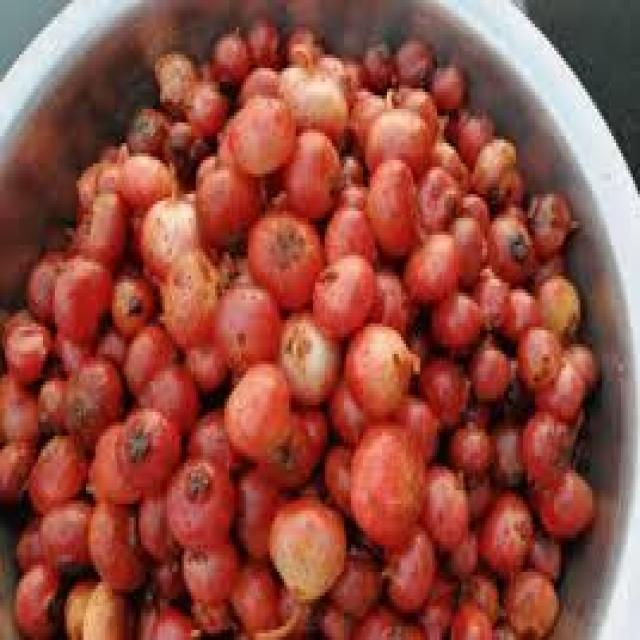organic waste: (346, 412, 425, 545), (263, 487, 344, 592), (160, 242, 234, 354), (244, 201, 318, 306), (194, 150, 268, 252), (206, 272, 280, 368), (310, 245, 380, 341), (346, 317, 413, 412), (220, 357, 286, 453), (134, 184, 198, 282), (256, 402, 327, 490), (60, 354, 122, 453), (274, 300, 336, 398), (164, 456, 232, 545), (84, 497, 148, 589), (234, 456, 291, 558), (224, 92, 292, 174), (112, 405, 177, 490), (358, 99, 435, 170), (363, 157, 418, 255), (378, 514, 432, 613), (280, 122, 342, 208), (48, 252, 110, 334), (132, 361, 198, 436), (36, 494, 91, 582), (533, 456, 592, 538), (119, 313, 177, 395), (24, 436, 88, 510), (478, 483, 530, 572), (65, 569, 136, 633), (499, 562, 559, 636), (177, 528, 241, 596), (14, 558, 67, 637), (224, 558, 280, 630), (413, 350, 466, 426), (523, 184, 576, 259), (327, 541, 380, 616), (368, 258, 420, 334), (84, 422, 134, 501), (255, 578, 322, 636), (421, 456, 464, 545), (401, 231, 454, 303), (523, 405, 571, 480), (0, 306, 50, 378), (105, 259, 155, 330), (289, 75, 346, 136), (487, 204, 533, 279), (84, 181, 126, 262), (394, 388, 439, 463), (416, 351, 468, 415), (464, 259, 506, 337), (532, 354, 582, 419), (514, 323, 564, 388), (470, 136, 520, 201), (339, 85, 389, 150), (322, 364, 363, 443), (320, 204, 375, 262), (100, 150, 172, 194), (444, 412, 490, 480), (415, 160, 461, 228), (19, 242, 65, 310), (76, 568, 122, 636), (466, 327, 506, 402), (490, 402, 526, 483), (449, 211, 485, 289), (430, 289, 475, 351), (537, 269, 578, 337), (0, 371, 38, 443), (194, 409, 236, 473), (0, 439, 41, 504), (387, 81, 439, 132), (416, 572, 456, 637), (134, 589, 188, 637), (134, 491, 172, 558), (153, 48, 196, 106), (353, 599, 418, 637), (444, 102, 492, 153), (179, 75, 227, 126), (36, 368, 72, 436), (124, 96, 172, 146), (143, 544, 184, 602), (499, 279, 535, 344), (322, 439, 353, 514), (46, 330, 94, 378), (241, 14, 282, 68), (428, 129, 466, 184), (442, 518, 478, 576), (526, 528, 564, 582), (160, 116, 203, 163), (392, 38, 434, 85), (456, 565, 497, 613), (212, 24, 248, 78), (188, 586, 224, 636), (186, 337, 222, 385), (461, 460, 487, 524), (126, 201, 153, 262), (564, 340, 600, 385), (12, 514, 41, 569), (430, 58, 463, 102), (239, 61, 277, 99), (449, 596, 485, 636), (366, 41, 396, 85), (459, 187, 487, 232), (95, 324, 126, 364), (315, 602, 351, 636), (332, 177, 368, 211), (504, 347, 525, 405), (284, 24, 318, 58), (72, 157, 110, 187), (279, 61, 306, 102), (334, 147, 366, 180), (64, 201, 86, 245), (406, 310, 430, 350), (339, 54, 363, 92), (317, 48, 344, 78), (193, 51, 224, 75), (213, 112, 229, 157), (98, 133, 129, 153), (489, 616, 516, 637), (442, 116, 456, 143)
